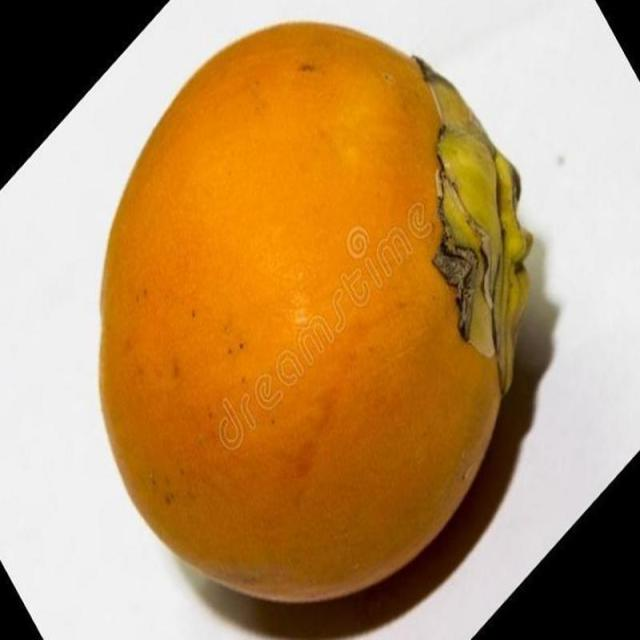good: (95, 21, 534, 610)
